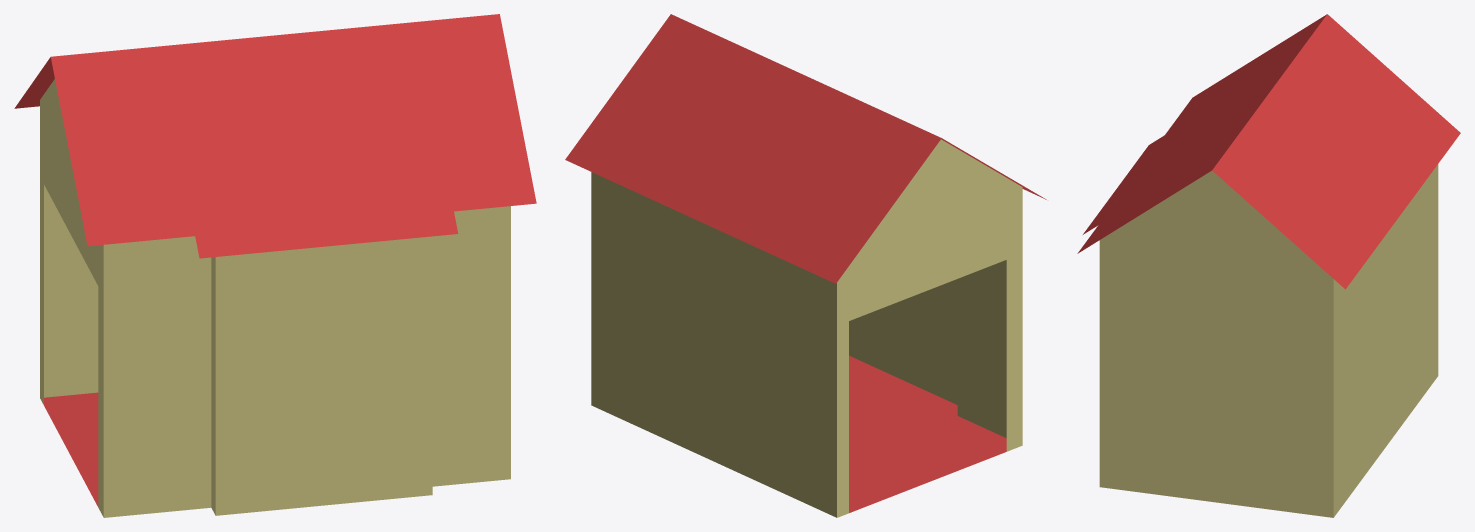
3 views of the same model, side by side, from view 1: azimuth 30°, elevation 25°; view 2: azimuth 150°, elevation 25°; view 3: azimuth 270°, elevation 25° (orthographic). The views are drawn at different scales.
Bounding box in the file's own units: 18.83 × 15.92 × 15.54.
